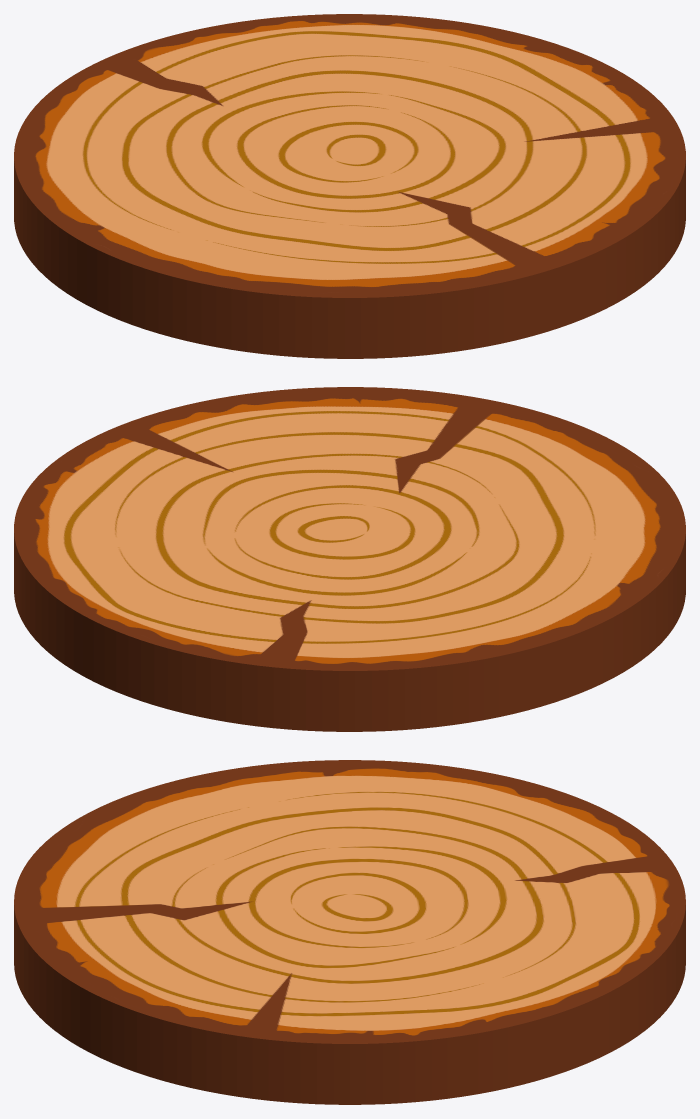
Rendered from Log.fbx.
3 views of the same model, one above another, from view 1: azimuth 30°, elevation 25°; view 2: azimuth 150°, elevation 25°; view 3: azimuth 270°, elevation 25° (orthographic).
Visible parts, largest first — view 1: Piece.001, Piece.003, Piece.002; view 2: Piece.001, Piece.003, Piece.002; view 3: Piece.003, Piece.001, Piece.002.
Boxes of the visible parts, bbox=[...] form: Piece.001: bbox=[14, 60, 549, 358]; Piece.003: bbox=[102, 14, 676, 156]; Piece.002: bbox=[354, 123, 685, 330]; Piece.001: bbox=[278, 399, 685, 731]; Piece.003: bbox=[14, 426, 342, 728]; Piece.002: bbox=[119, 387, 483, 528]; Piece.003: bbox=[254, 859, 685, 1104]; Piece.001: bbox=[14, 760, 669, 978]; Piece.002: bbox=[16, 900, 352, 1098].
Size of the model in its own units: 200 by 20 by 200.
